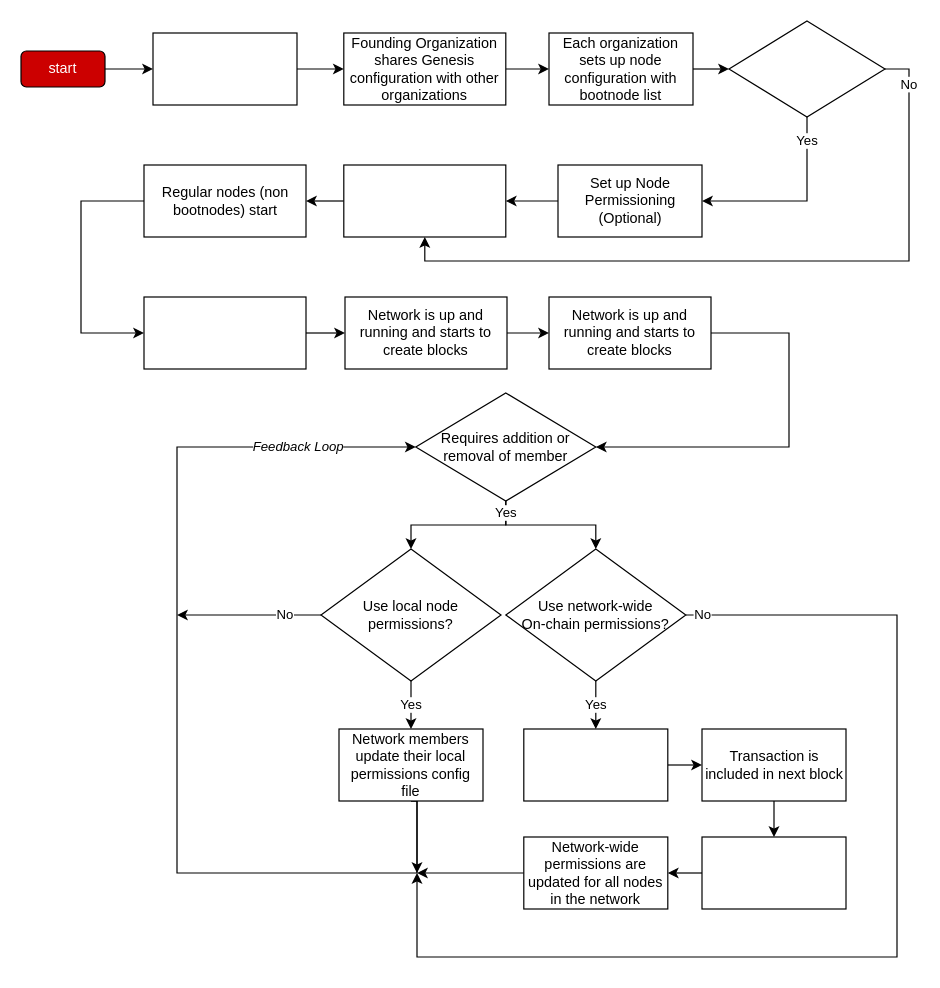
This 940x988 diagram has some shape labels left out. The centre of each missing label's shape, as x and y in pixels:
"At least 4 nodes are connected through bootnodes" belongs at pixel 224 332.
"Authorized Member submits transaction to add new member" belongs at pixel 595 764.
"Bootnodes start" belongs at pixel 424 200.
"Founding Organization creates Genesis configuration" belongs at pixel 224 68.
"Requires access control?" belongs at pixel 806 68.
"Transaction is shared to all nodes in the network" belongs at pixel 773 872.
